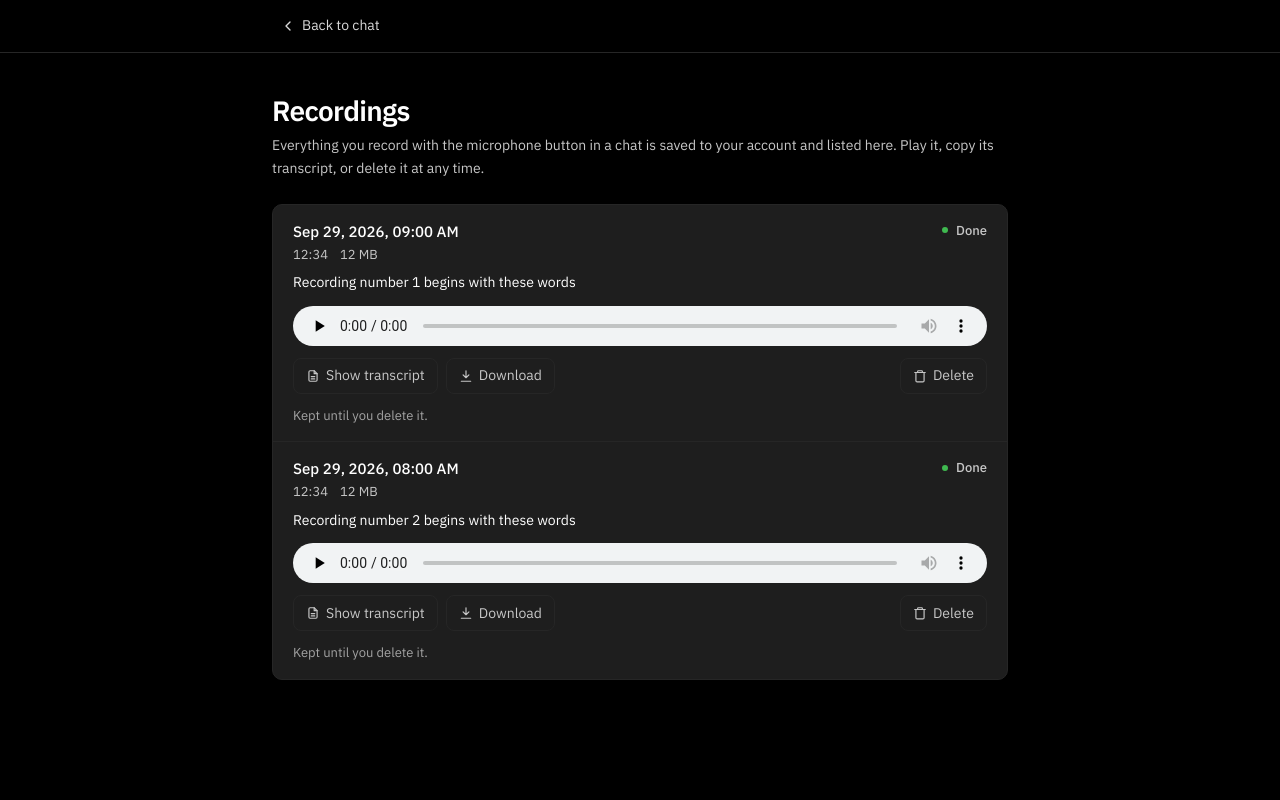
Test: deleting › deletes after the confirmation, removes the row and says so
Click the button named "Delete the recording from" at (943, 376), box [900,358,987,394]
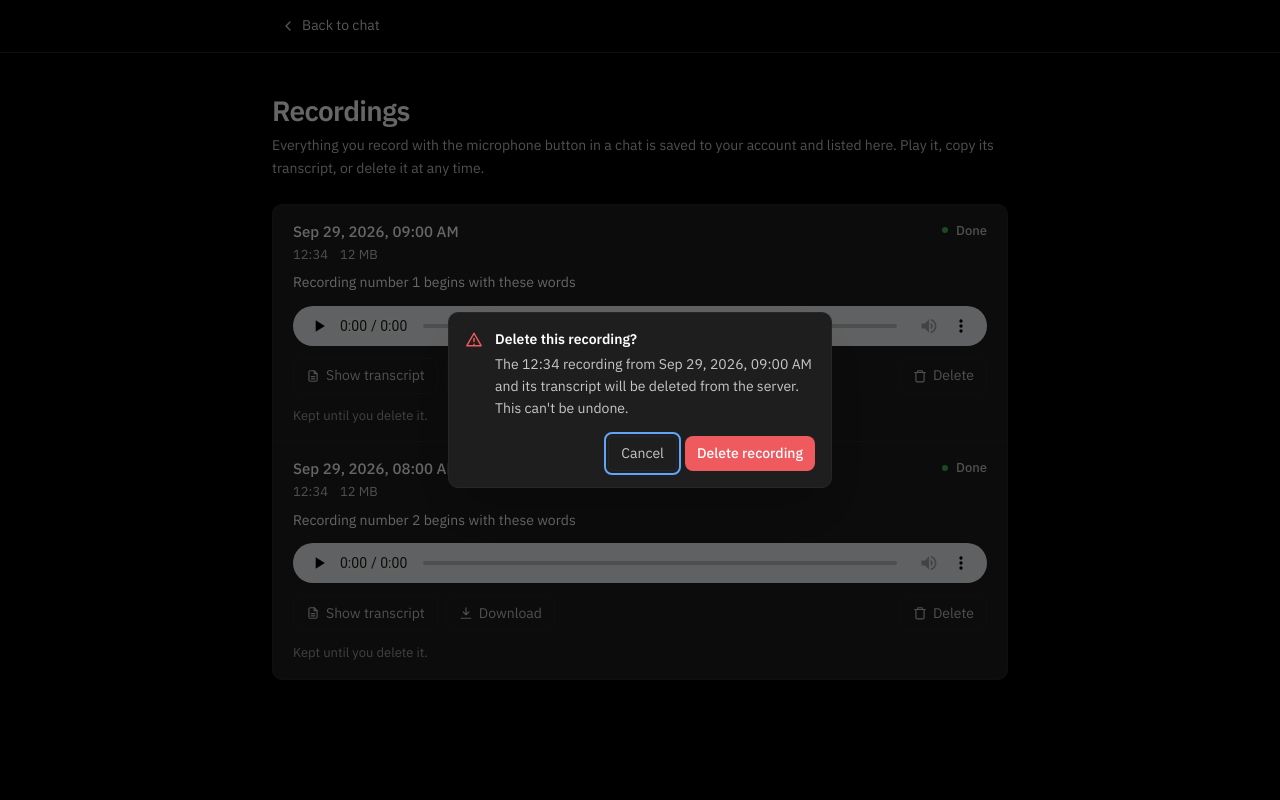
Click the button "Delete recording" at (750, 453), box [685,436,815,471]
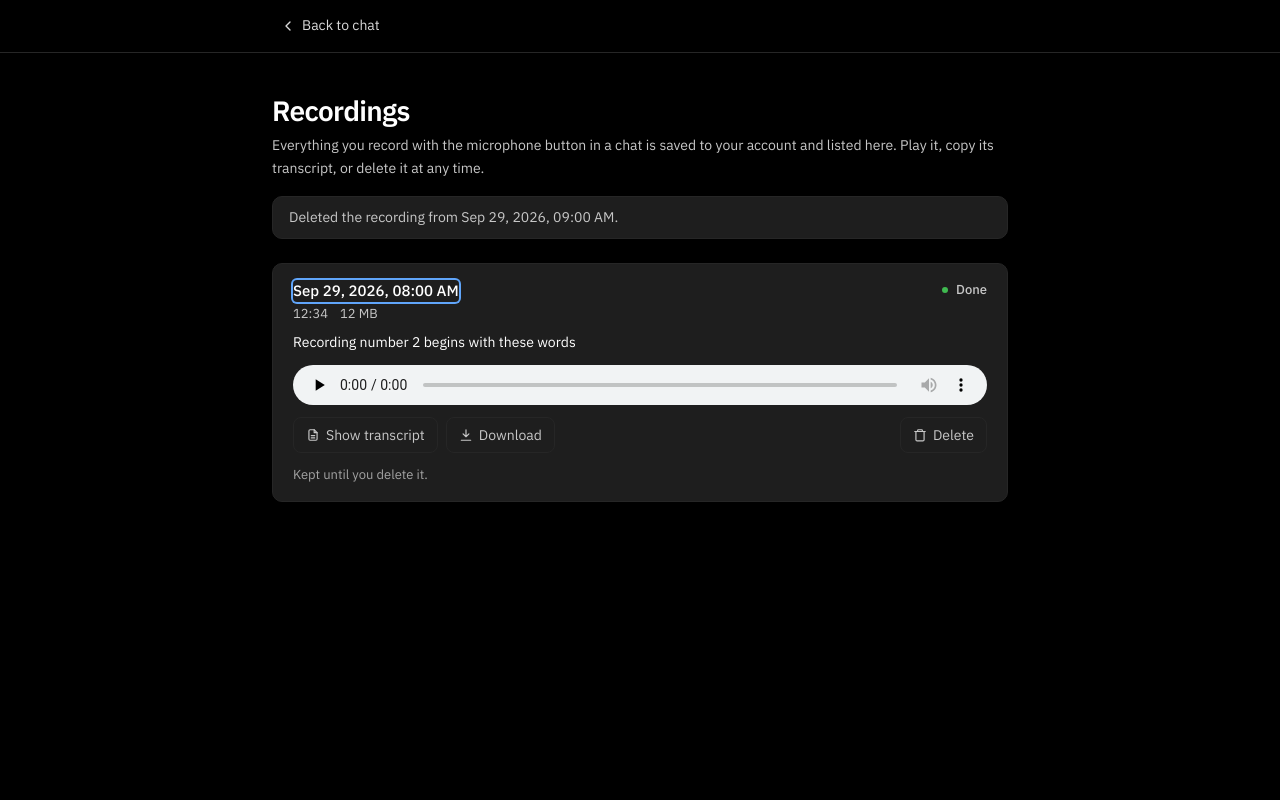
Result: the number of list items is 1 at [273,264,1007,501]
